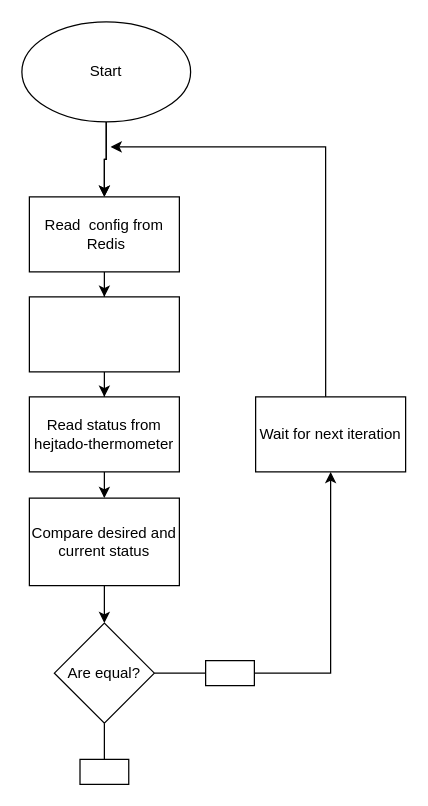
The diagram is 428 pixels wide and 806 high, and some of its shapes have lost their labels. Here are the shapes that lost their labels. From the top down, the centre of each, then its label:
pixel 103 334: Read status from hejtado-quido
pixel 229 672: Yes
pixel 104 771: No
